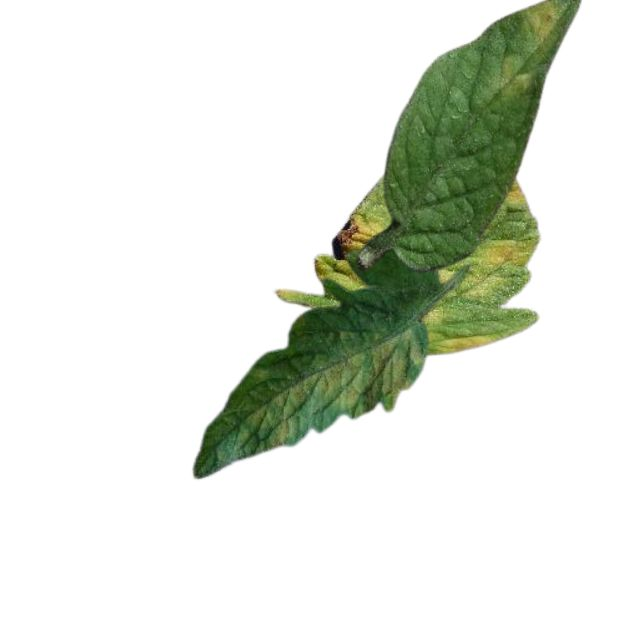Leaf_Mold: (236, 326, 423, 459), (436, 234, 538, 299), (315, 211, 383, 293), (520, 1, 560, 42), (495, 53, 534, 95), (433, 332, 502, 354), (504, 175, 528, 207)
